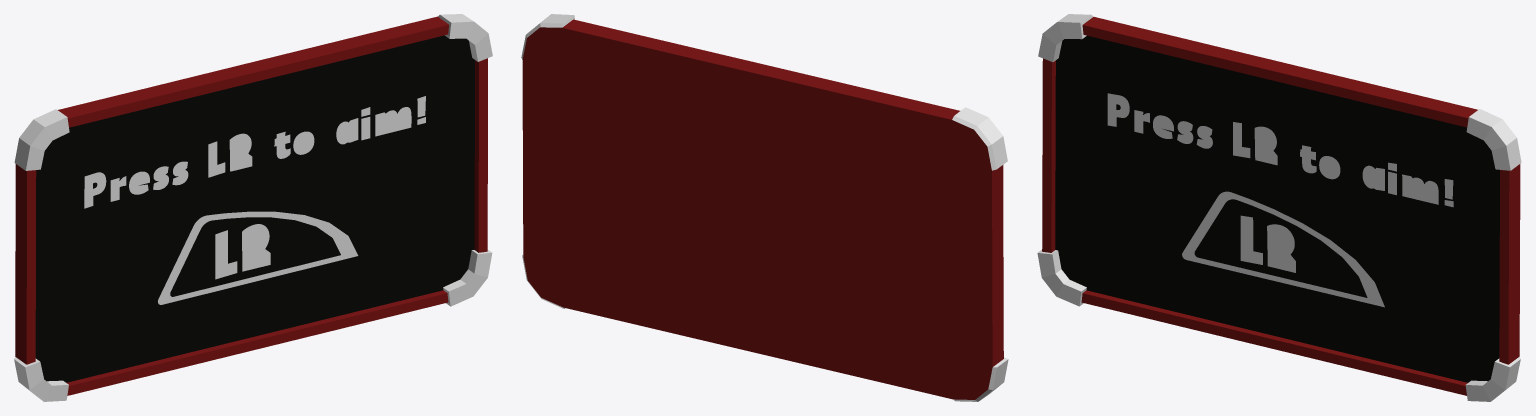
File: Tuto7-PSN.FBX
3 renders of one model, left to right at view 1: azimuth 30°, elevation 25°; view 2: azimuth 150°, elevation 25°; view 3: azimuth 330°, elevation 25°, orthographic.
Parts seen in each view (by area): view 1: Pizarra 10, Text030, Shape020, Text031, Shape021; view 2: Pizarra 10; view 3: Pizarra 10, Text030, Shape020, Text031, Shape021.
Boxes of the visible parts, x1=… form: Pizarra 10: x1=14, y1=14, x2=492, y2=401; Text030: x1=84, y1=96, x2=425, y2=208; Shape020: x1=158, y1=211, x2=358, y2=304; Text031: x1=242, y1=224, x2=270, y2=271; Shape021: x1=215, y1=230, x2=237, y2=279; Pizarra 10: x1=521, y1=14, x2=1008, y2=401; Pizarra 10: x1=1037, y1=14, x2=1521, y2=401; Text030: x1=1107, y1=93, x2=1453, y2=207; Shape020: x1=1182, y1=191, x2=1384, y2=307; Text031: x1=1267, y1=224, x2=1295, y2=272; Shape021: x1=1240, y1=215, x2=1262, y2=264.
Size of the model in its own units: 77.68 by 44.99 by 4.52.
